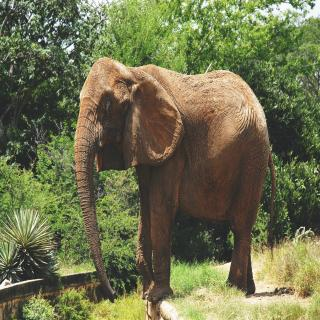Elephant: (70, 52, 277, 308)
